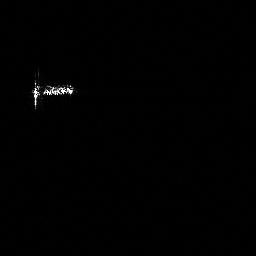ship: (29, 76, 80, 113)
